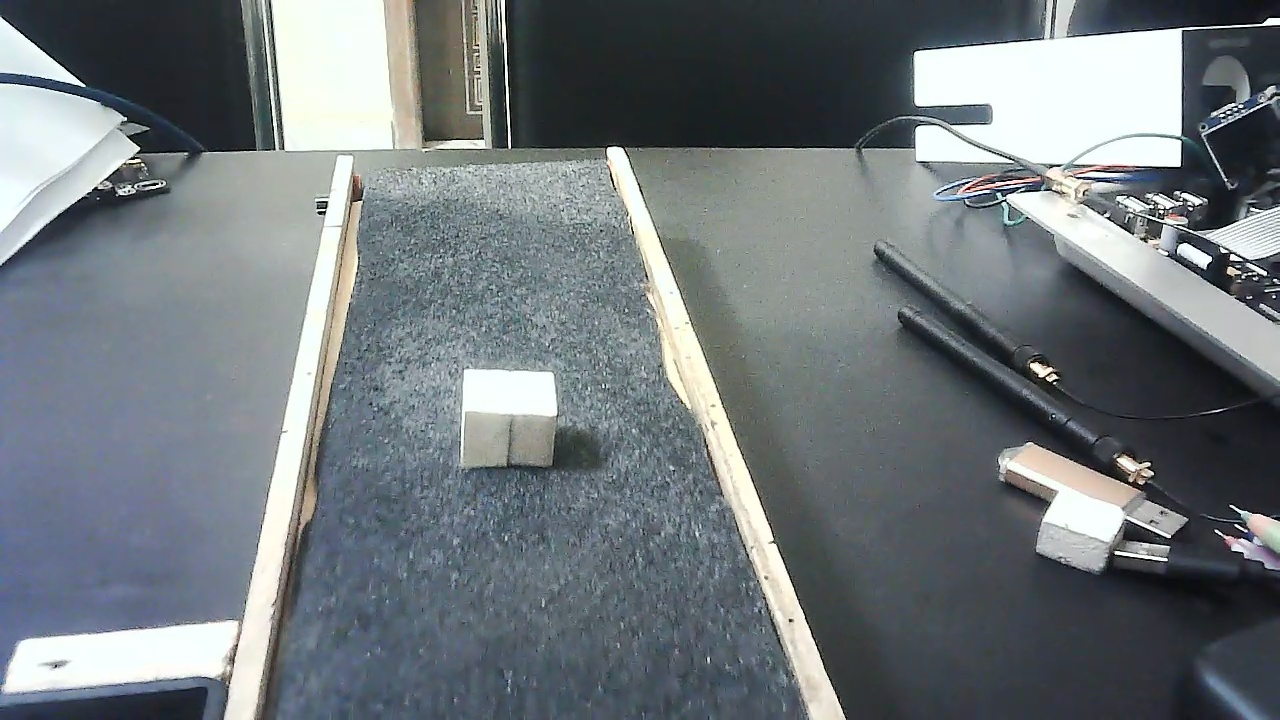Small: (456, 369, 558, 471)
